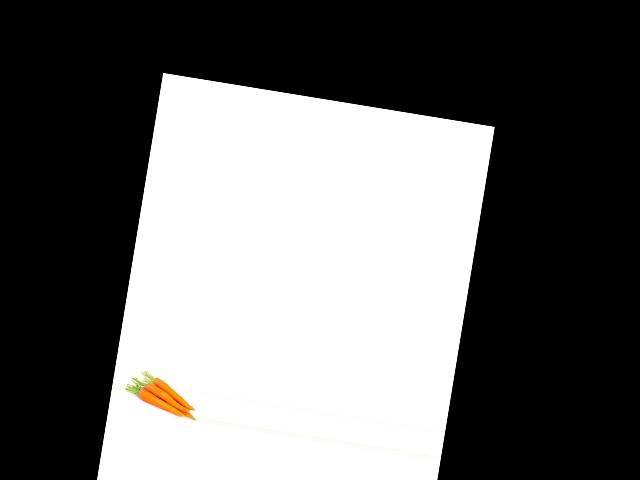carrot: (130, 388, 187, 419)
